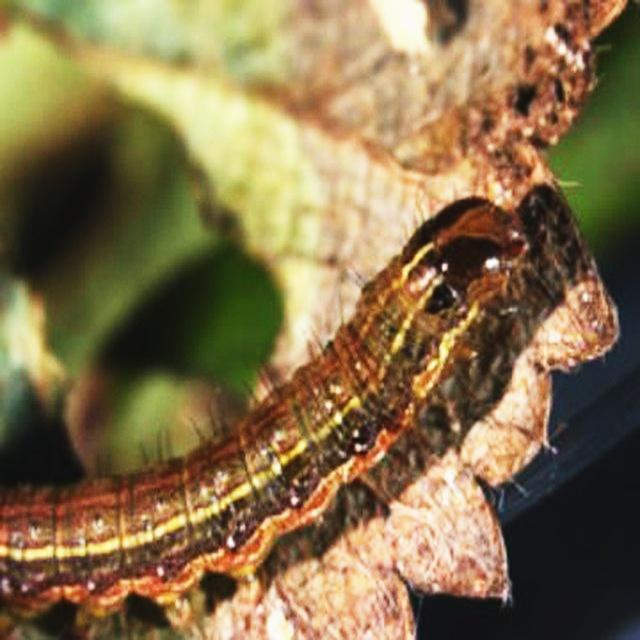worm: (1, 192, 530, 622)
